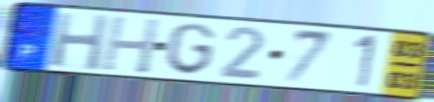1: (351, 34, 378, 90)
2: (215, 25, 266, 81)
7: (285, 27, 336, 86)
G: (164, 21, 218, 77)
H: (99, 14, 162, 76), (48, 11, 111, 73)
